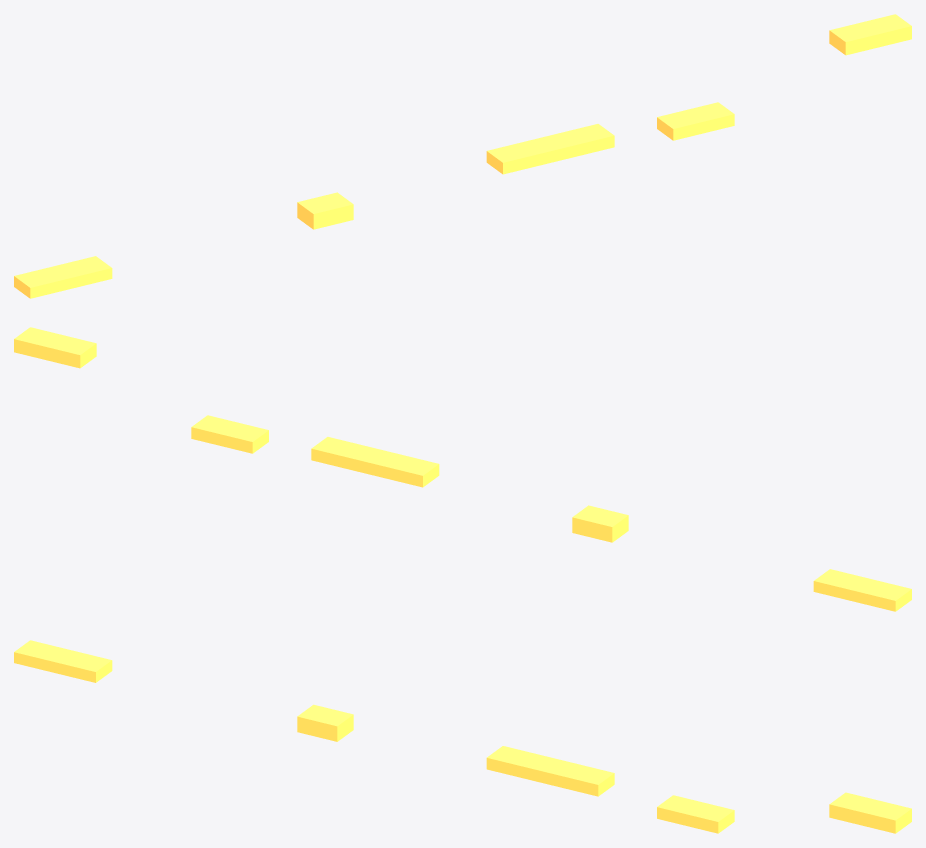
Rendered from Terrain_Collision_Master.fbx.
3 renders of one model, top to bottom at view 1: azimuth 30°, elevation 25°; view 2: azimuth 150°, elevation 25°; view 3: azimuth 330°, elevation 25°, orthographic.
Visible parts, largest first — view 1: MW_COL_Platform_fallen-log-launch, MW_COL_Platform_camp-awning-deck, MW_COL_Platform_mason-shelf-overlook, MW_COL_Platform_fallen-log-landing, MW_COL_Platform_opening-stump-step; view 2: MW_COL_Platform_fallen-log-launch, MW_COL_Platform_camp-awning-deck, MW_COL_Platform_mason-shelf-overlook, MW_COL_Platform_fallen-log-landing, MW_COL_Platform_opening-stump-step; view 3: MW_COL_Platform_fallen-log-launch, MW_COL_Platform_camp-awning-deck, MW_COL_Platform_mason-shelf-overlook, MW_COL_Platform_fallen-log-landing, MW_COL_Platform_opening-stump-step.
Part boxes in pixels (<box>): MW_COL_Platform_fallen-log-launch: <box>486,124,614,174</box>; MW_COL_Platform_camp-awning-deck: <box>14,256,112,298</box>; MW_COL_Platform_mason-shelf-overlook: <box>829,14,911,55</box>; MW_COL_Platform_fallen-log-landing: <box>657,102,734,140</box>; MW_COL_Platform_opening-stump-step: <box>297,192,353,229</box>; MW_COL_Platform_fallen-log-launch: <box>311,437,439,487</box>; MW_COL_Platform_camp-awning-deck: <box>813,569,911,611</box>; MW_COL_Platform_mason-shelf-overlook: <box>14,327,96,368</box>; MW_COL_Platform_fallen-log-landing: <box>191,415,268,453</box>; MW_COL_Platform_opening-stump-step: <box>572,505,628,542</box>; MW_COL_Platform_fallen-log-launch: <box>486,746,614,796</box>; MW_COL_Platform_camp-awning-deck: <box>14,640,112,682</box>; MW_COL_Platform_mason-shelf-overlook: <box>829,792,911,833</box>; MW_COL_Platform_fallen-log-landing: <box>657,795,734,833</box>; MW_COL_Platform_opening-stump-step: <box>297,704,353,741</box>.
Size of what is drawn, in the model's own units: 2369 by 148 by 76.
